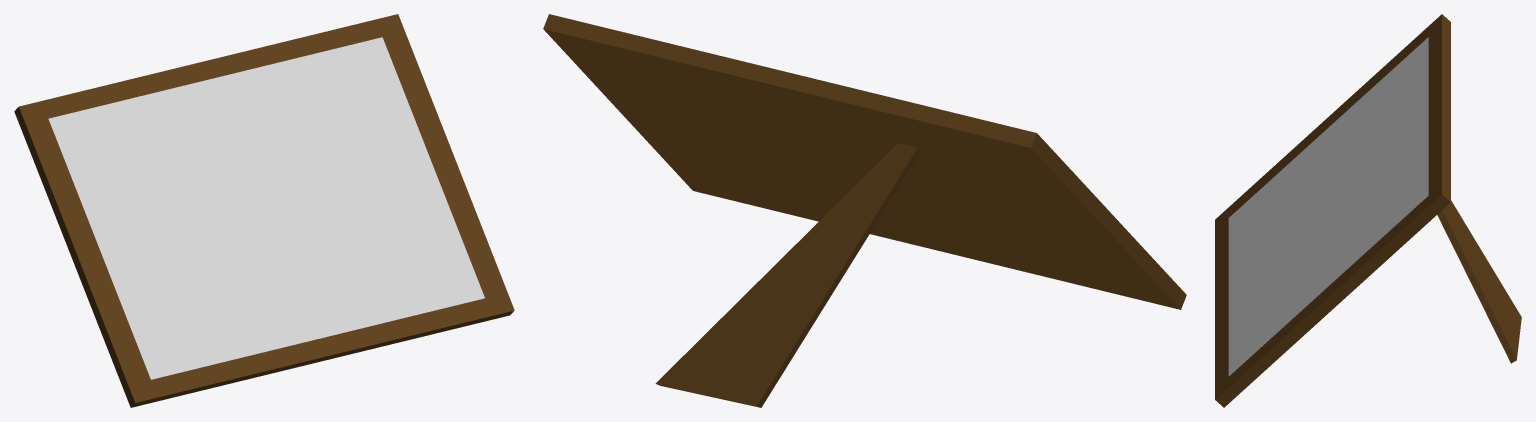
File: pictureframe.fbx
3 renders of one model, left to right at view 1: azimuth 30°, elevation 25°; view 2: azimuth 150°, elevation 25°; view 3: azimuth 270°, elevation 25°, orthographic. The views are drawn at different scales.
Parts seen in each view (by area): view 1: pictureframe; view 2: pictureframe; view 3: pictureframe.
Boxes of the visible parts, box(x1,y1,x2,y2) form: pictureframe: box(14, 14, 514, 407); pictureframe: box(543, 14, 1186, 407); pictureframe: box(1215, 14, 1521, 407).
Bounding box in the file's own units: 200 × 118 × 144.
